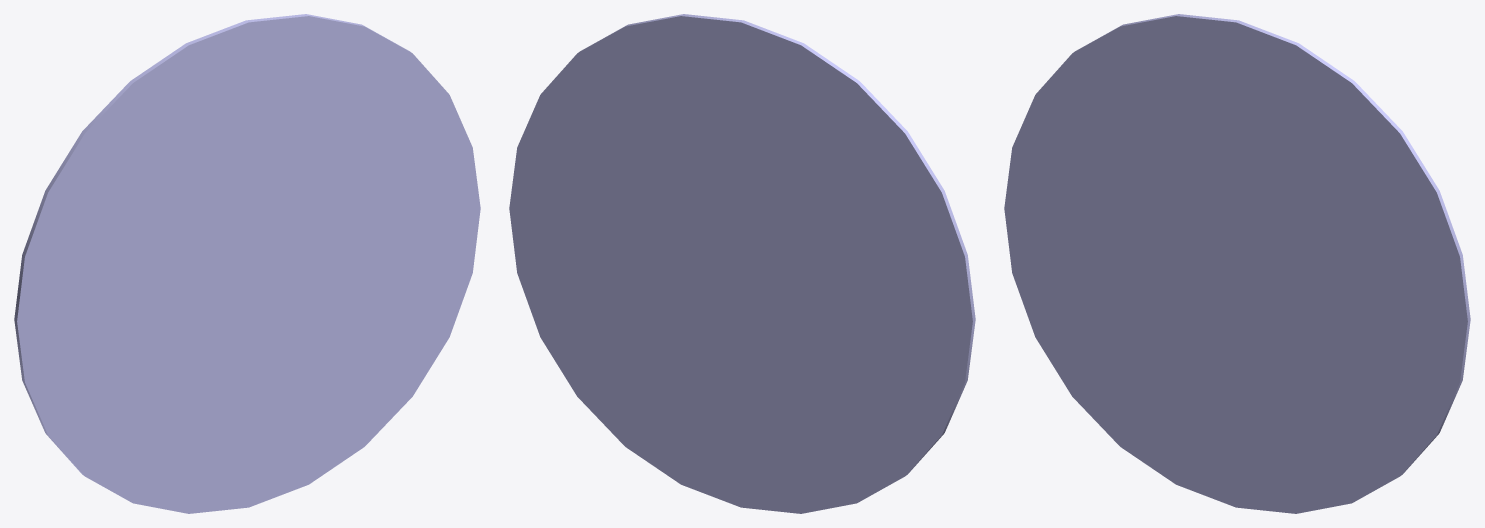
Rendered from GDCWindow.gltf.
3 views of the same model, side by side, from view 1: azimuth 30°, elevation 25°; view 2: azimuth 150°, elevation 25°; view 3: azimuth 330°, elevation 25° (orthographic).
Parts seen in each view (by area): view 1: GDCWindow0x224a4e0; view 2: GDCWindow0x224a4e0; view 3: GDCWindow0x224a4e0.
Boxes of the visible parts, x1,y1,x2,y2 form: GDCWindow0x224a4e0: (14, 14, 480, 513); GDCWindow0x224a4e0: (509, 14, 975, 513); GDCWindow0x224a4e0: (1004, 14, 1470, 513).
Size of the model in its own units: 48.1 by 48.1 by 0.5.
